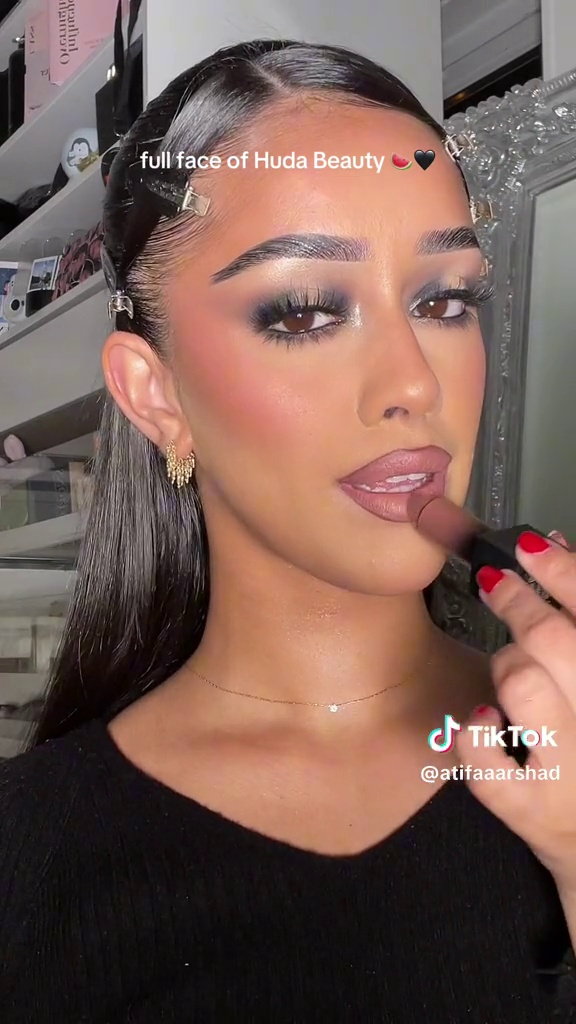train' :'yolo_data/train/images',: (394, 486, 575, 623)
